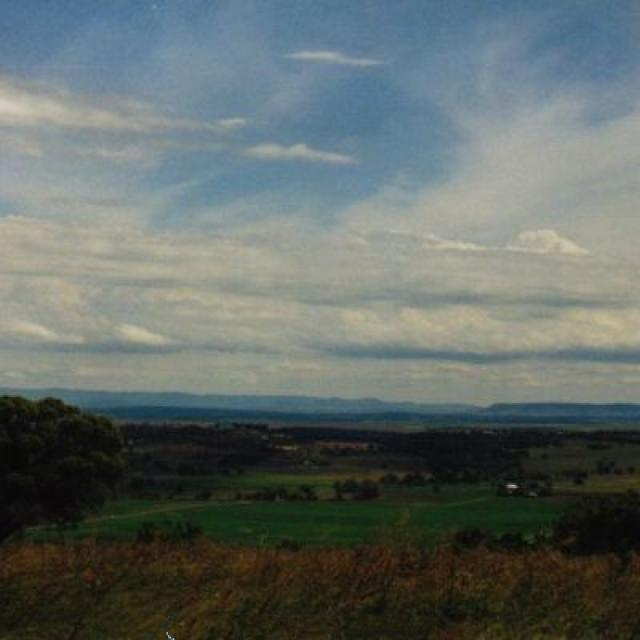Cs: (1, 3, 640, 360)
